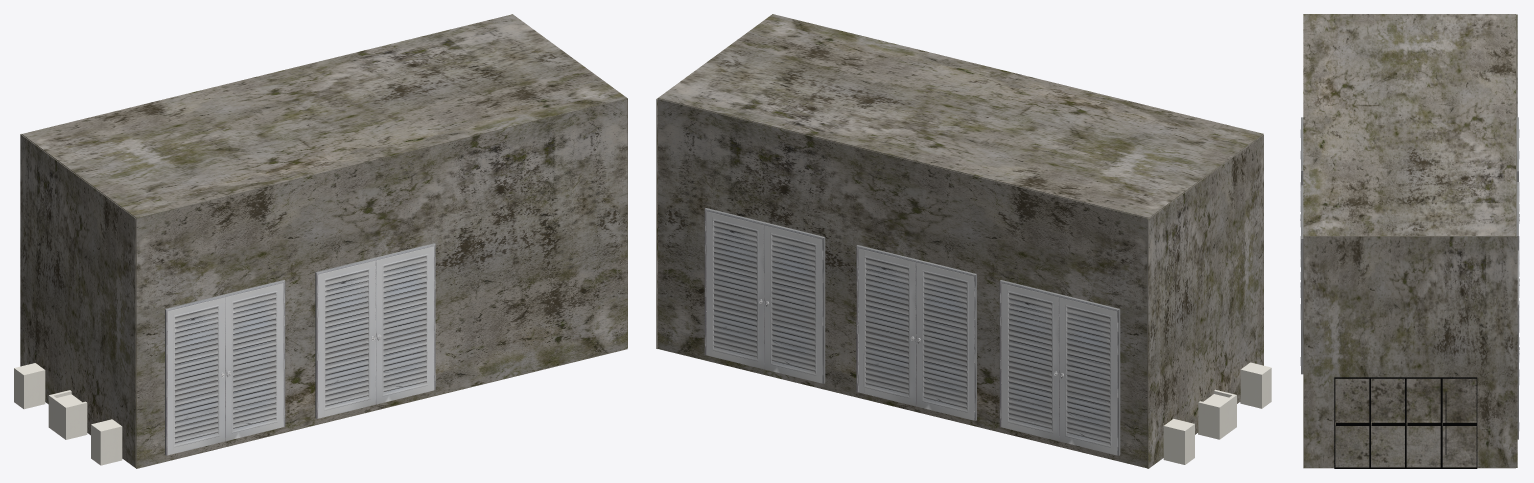
File: SIDE SHOP.fbx
3 renders of one model, left to right at view 1: azimuth 30°, elevation 25°; view 2: azimuth 150°, elevation 25°; view 3: azimuth 270°, elevation 25°, orthographic. The views are drawn at different scales.
Parts seen in each view (by area): view 1: shop, side_doors, back_cubes; view 2: shop, side_doors, back_cubes; view 3: shop, Translucent_Glass_Blue-material, side_doors, dust_2-material, _1-material.
Boxes of the visible parts, x1=… form: shop: x1=20, y1=14, x2=627, y2=468; side_doors: x1=165, y1=243, x2=435, y2=455; back_cubes: x1=14, y1=363, x2=122, y2=465; shop: x1=656, y1=14, x2=1263, y2=468; side_doors: x1=704, y1=208, x2=1120, y2=455; back_cubes: x1=1163, y1=362, x2=1271, y2=464; shop: x1=1303, y1=14, x2=1517, y2=468; Translucent_Glass_Blue-material: x1=1335, y1=379, x2=1476, y2=467; side_doors: x1=1300, y1=117, x2=1519, y2=439; dust_2-material: x1=1334, y1=377, x2=1477, y2=468; _1-material: x1=1336, y1=422, x2=1476, y2=425.
Bounding box in the file's own units: 24.05 × 11.19 × 9.53.
6 materials, 3 textured.
